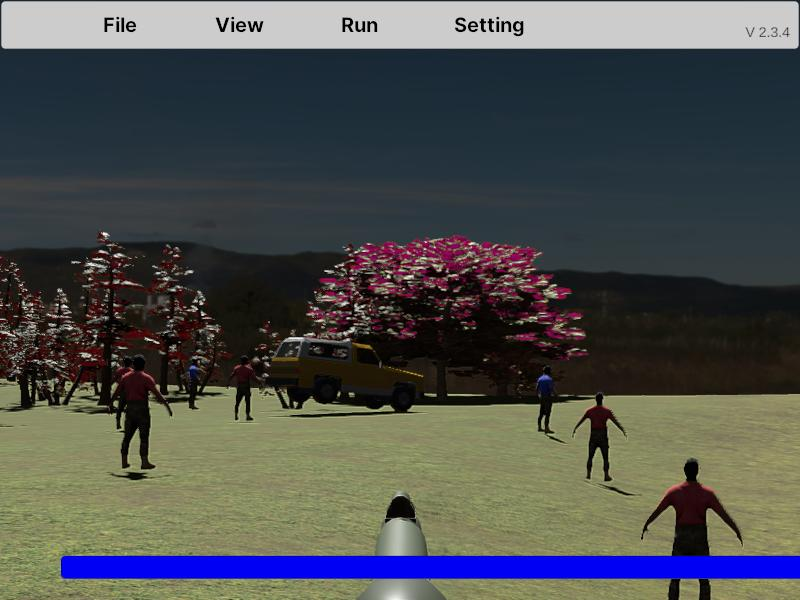Human: (641, 456, 743, 600), (114, 354, 172, 470), (573, 391, 627, 483), (228, 354, 261, 421), (535, 364, 559, 433)
car: (266, 334, 426, 413)
